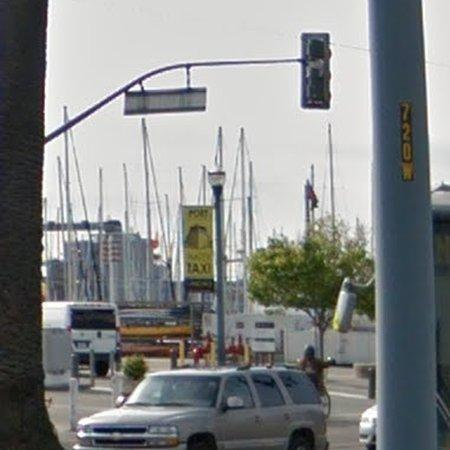traffic lights: (302, 33, 330, 108)
